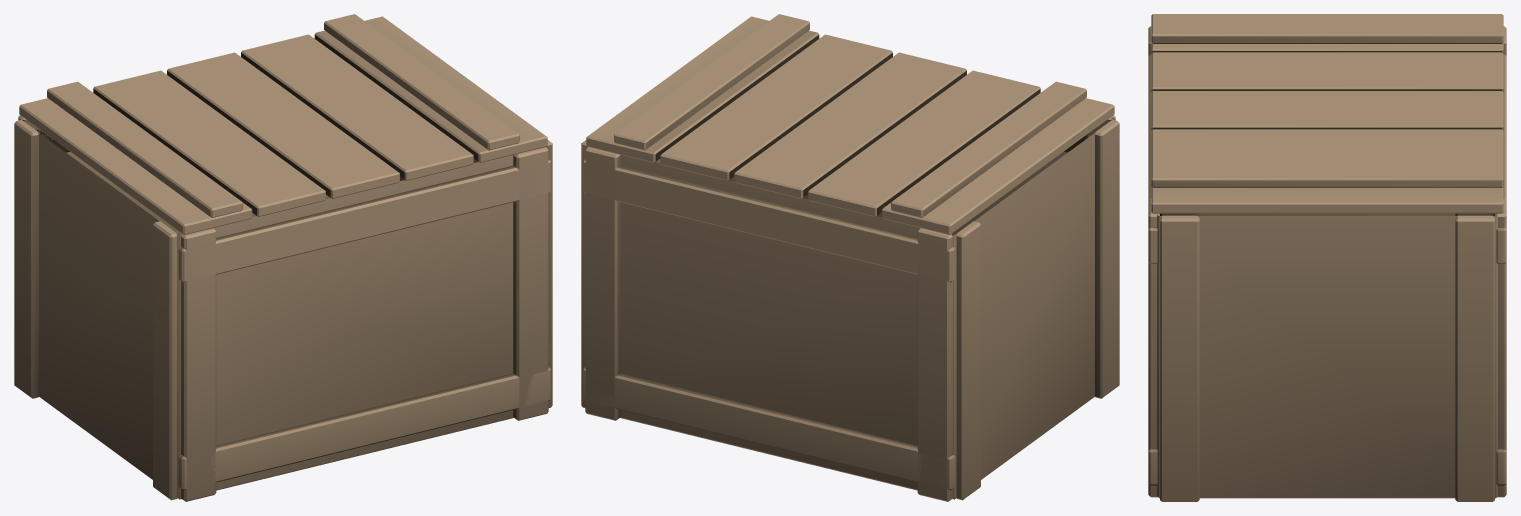
The model's file is crate_wood.glb.
The picture shows the model from 3 angles, left to right: view 1: azimuth 30°, elevation 25°; view 2: azimuth 150°, elevation 25°; view 3: azimuth 270°, elevation 25°; orthographic projection. The views are drawn at different scales.
Parts seen in each view (by area): view 1: crate_wood, crate_wood_lid; view 2: crate_wood, crate_wood_lid; view 3: crate_wood, crate_wood_lid.
Boxes of the visible parts, x1,y1,x2,y2 form: crate_wood: (14, 115, 552, 501); crate_wood_lid: (19, 14, 547, 234); crate_wood: (581, 115, 1119, 501); crate_wood_lid: (586, 14, 1114, 234); crate_wood: (1148, 26, 1506, 501); crate_wood_lid: (1151, 14, 1503, 213).
Bounding box in the file's own units: 0.83 × 0.592 × 0.63.
